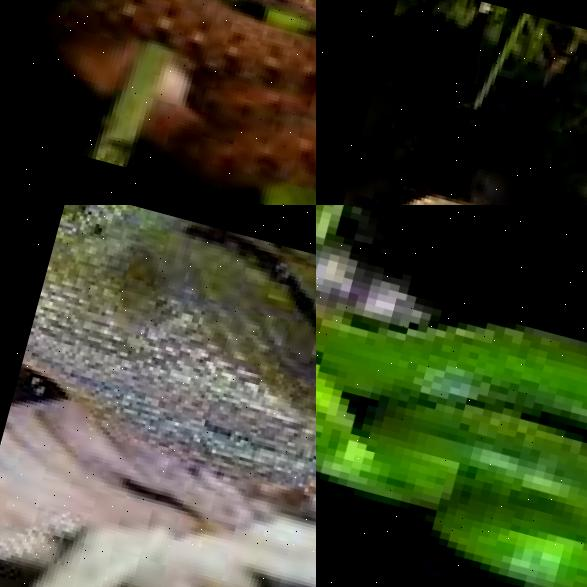2: (0, 0, 316, 205)
3: (5, 205, 316, 549)
4: (316, 205, 587, 587)
snake: (316, 0, 587, 205)
